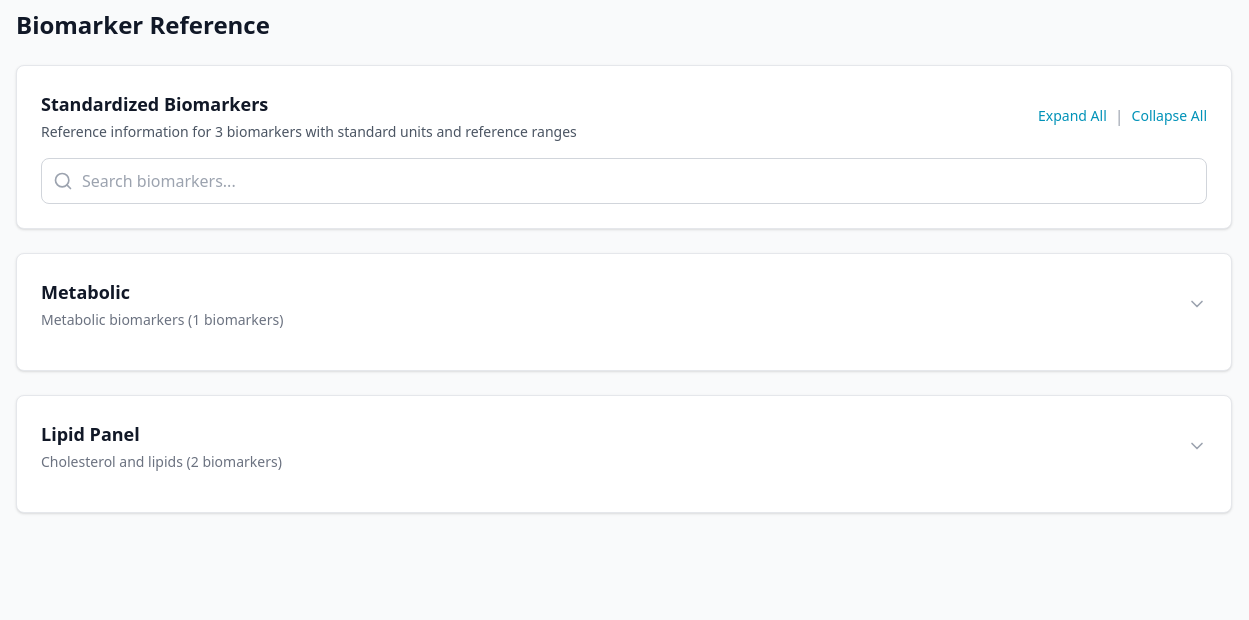
BiomarkersPage › with biomarkers › expands category when clicked
Note: Click on Metabolic category
Click the heading "Metabolic" at (86, 292), box [41,280,130,304]
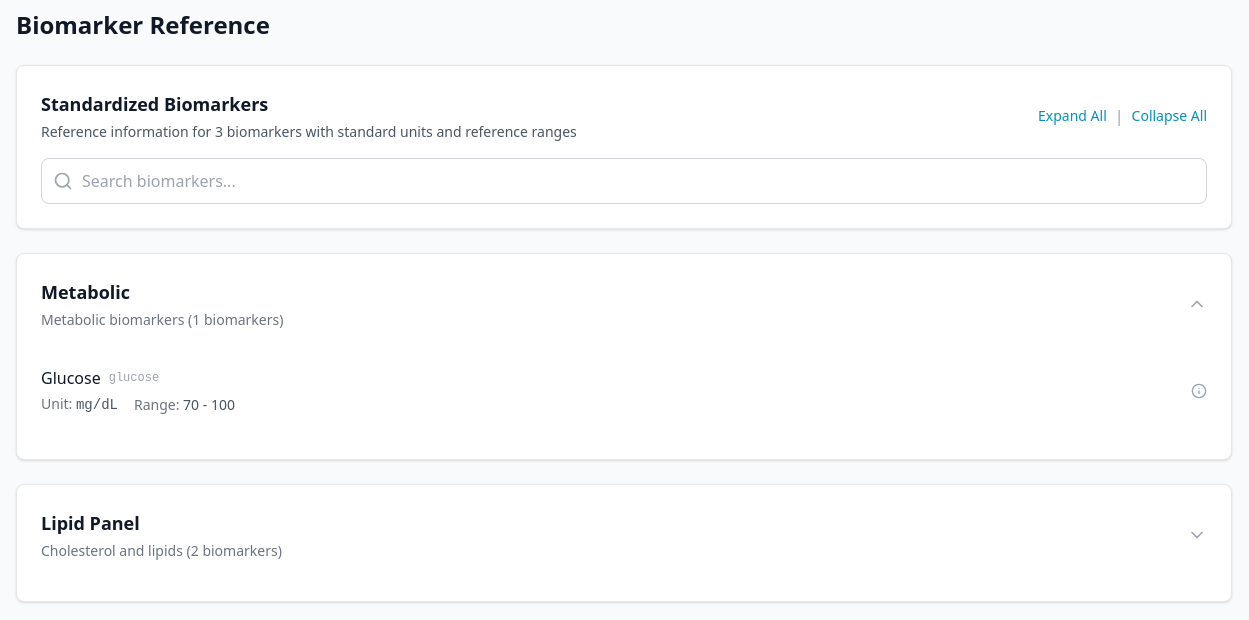
Check: the text "Glucose" is shown, box [41,366,101,390]
